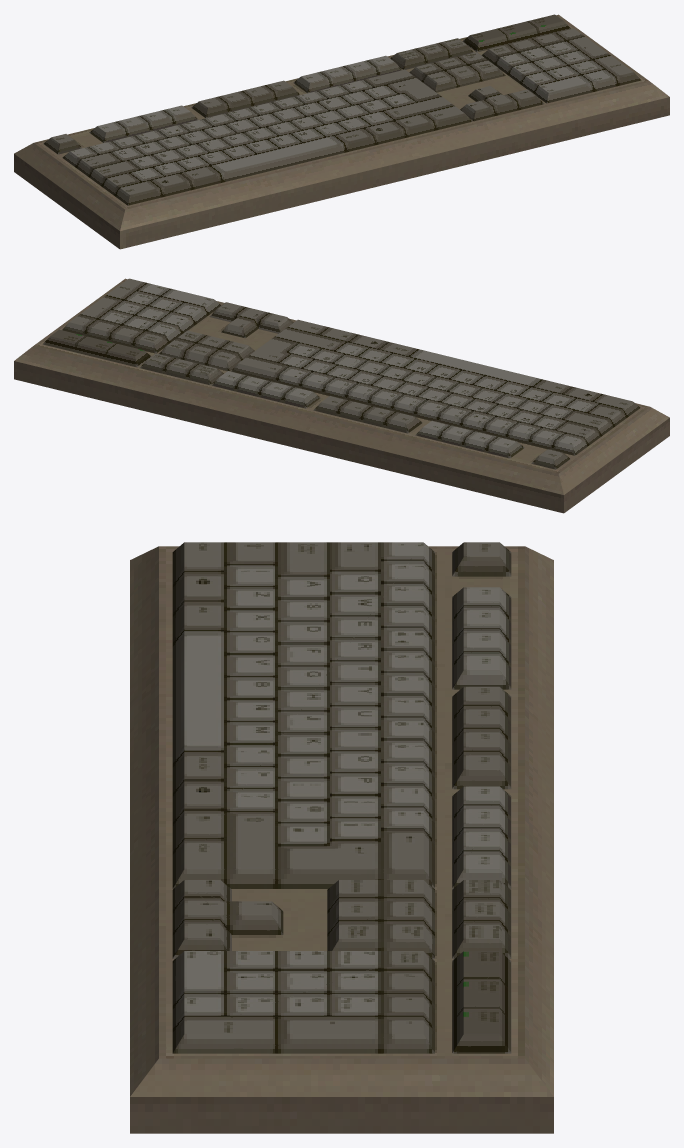
The model's file is pc_keyboard_mp_2.glb.
3 views of the same model, one above another, from view 1: azimuth 30°, elevation 25°; view 2: azimuth 150°, elevation 25°; view 3: azimuth 270°, elevation 25° (orthographic). The views are drawn at different scales.
Visible parts, largest first — view 1: pc_keyboard_mp_2; view 2: pc_keyboard_mp_2; view 3: pc_keyboard_mp_2.
Boxes of the visible parts, x1,y1,x2,y2 form: pc_keyboard_mp_2: (14, 14, 669, 249); pc_keyboard_mp_2: (14, 278, 669, 513); pc_keyboard_mp_2: (130, 542, 553, 1133).
Bounding box in the file's own units: 0.55 × 0.037 × 0.1836.
1 material, 1 textured.
